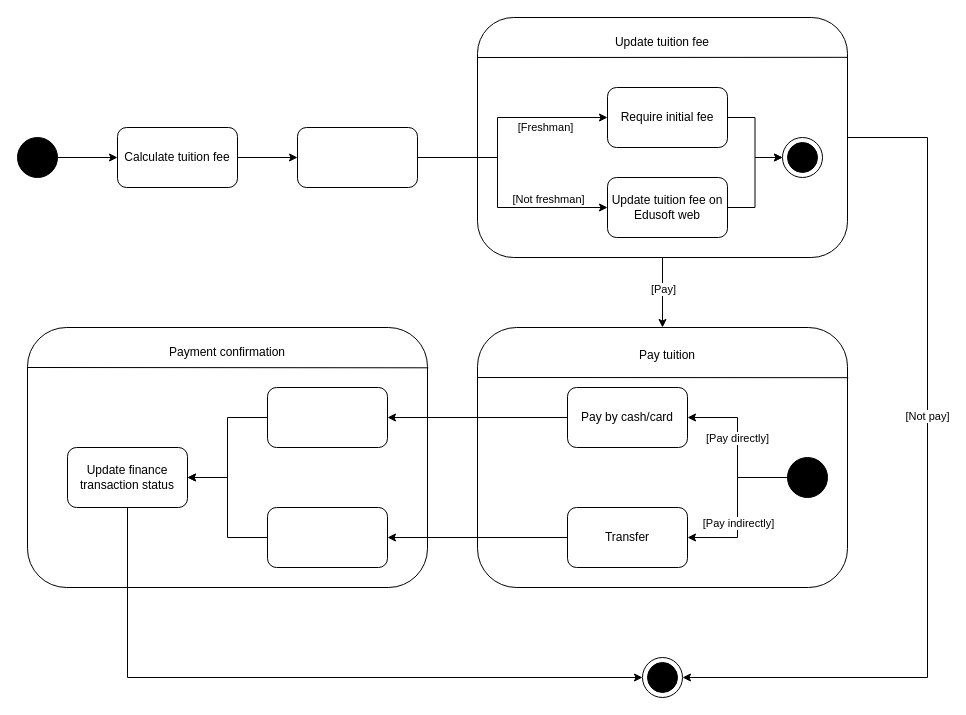
Some shapes in this 966 by 715 pixel diagram are drawn without their labels. Each missing label, with the centre of its shape:
"Get student list" belongs at pixel 357 157.
"Print invoice" belongs at pixel 327 417.
"Update e-invoice of Edusoft web" belongs at pixel 327 537.
